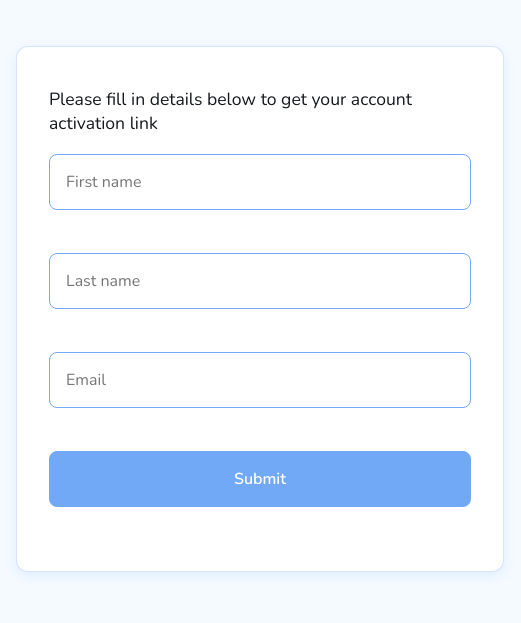
Scenario: RequestSignupForm › shows error messages when the fields are missing
Click the button with test id "submitBtn" at [260, 479], box [49, 451, 471, 507]
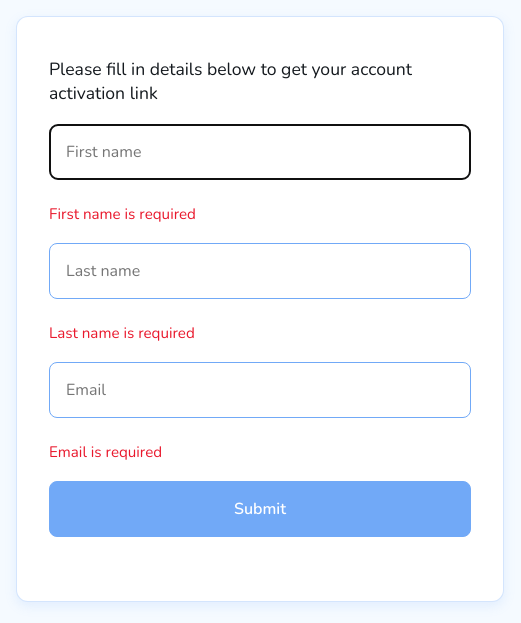
expect the text "First name is required" is shown: met, box [49, 204, 196, 224]
expect the text "Last name is required" is shown: met, box [49, 323, 195, 343]
expect the text "Email is required" is shown: met, box [49, 442, 162, 462]
